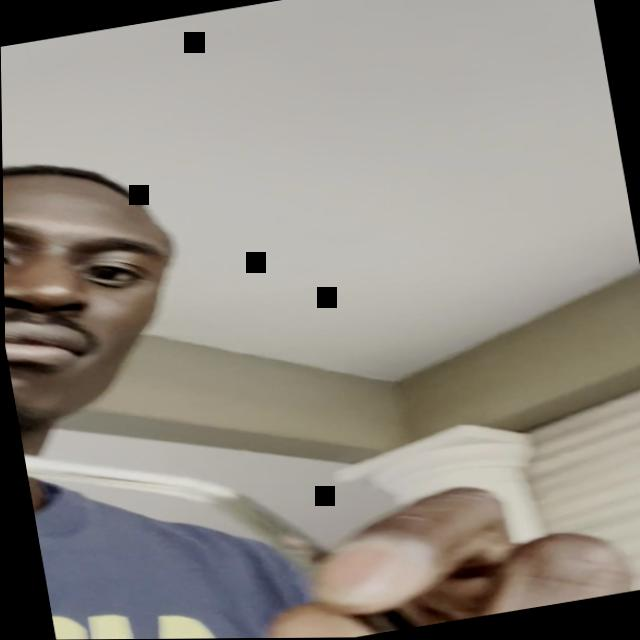NO-Mask: (2, 135, 216, 456)
